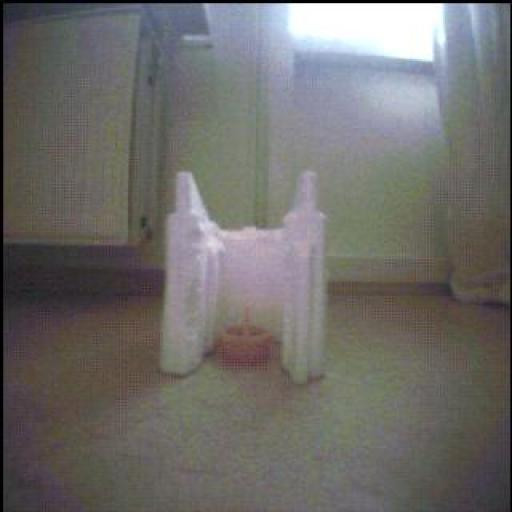Basket: (217, 310, 275, 367)
